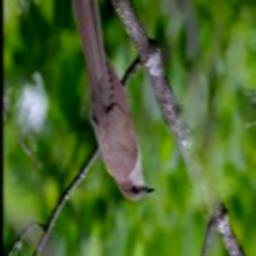Cuckoo: (71, 0, 154, 201)
